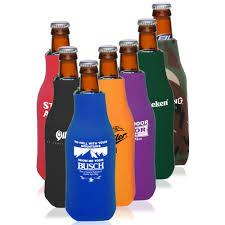Glass bottle: (24, 2, 204, 225)
